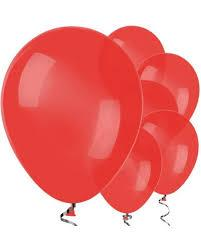red: (1, 25, 142, 202), (100, 130, 161, 214), (139, 110, 199, 191), (140, 52, 200, 121), (107, 25, 165, 69)
